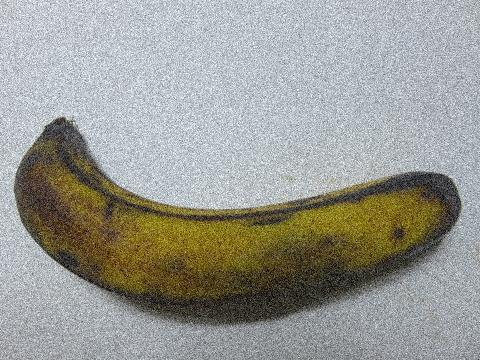rotten: (10, 114, 473, 318)
